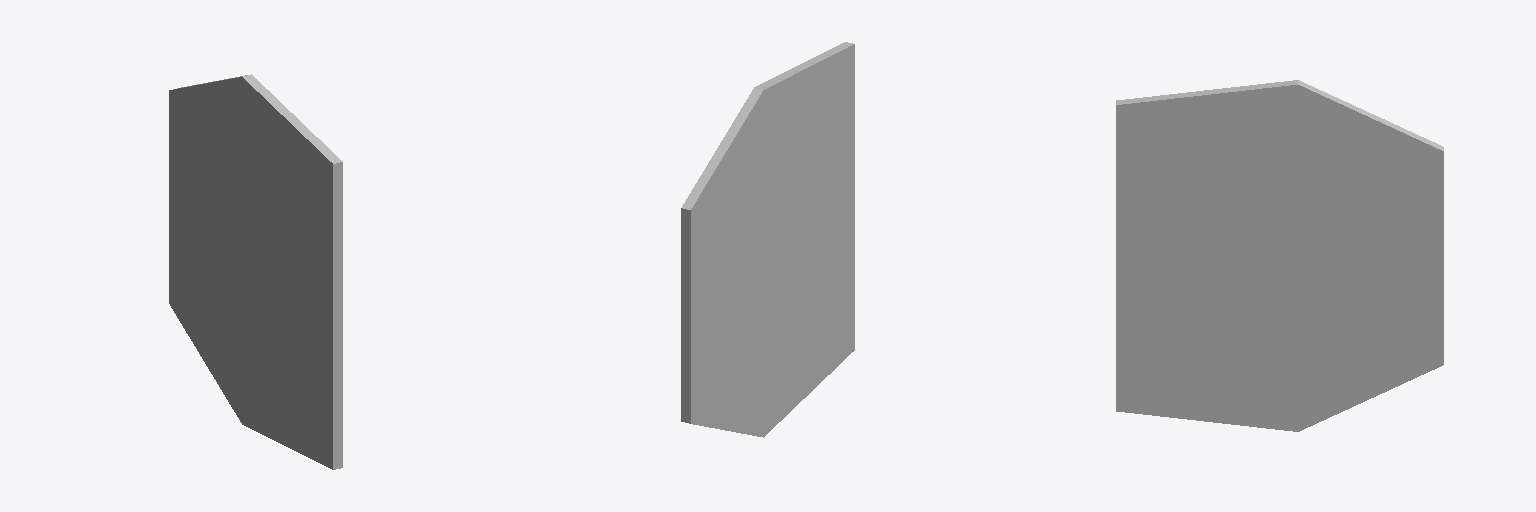
File: rafale.obj
3 renders of one model, left to right at view 1: azimuth 30°, elevation 25°; view 2: azimuth 150°, elevation 25°; view 3: azimuth 270°, elevation 25°, orthographic.
Parts seen in each view (by area): view 1: ShapeIndexedFaceSet_010; view 2: ShapeIndexedFaceSet_010; view 3: ShapeIndexedFaceSet_010.
Boxes of the visible parts, box(x1,y1,x2,y2) form: ShapeIndexedFaceSet_010: box(169, 74, 342, 469); ShapeIndexedFaceSet_010: box(681, 42, 854, 437); ShapeIndexedFaceSet_010: box(1116, 80, 1443, 431).
Size of the model in its own units: 0.0066 by 0.2277 by 0.1948.